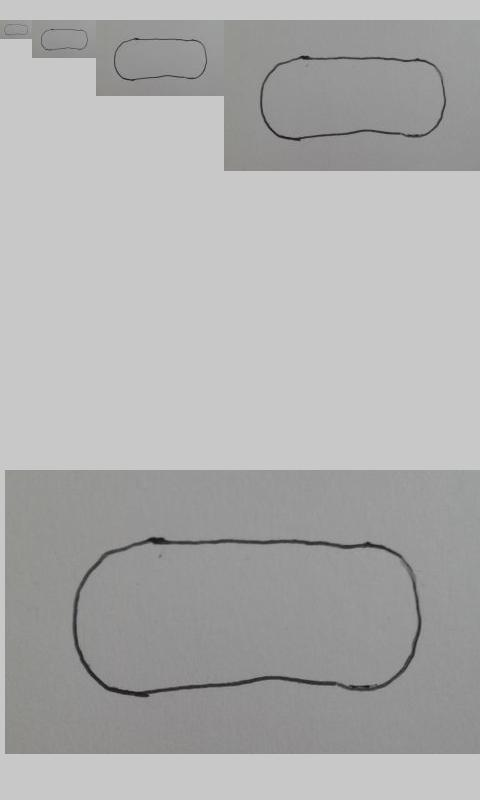chip: (72, 538, 422, 699), (259, 54, 448, 140), (114, 38, 208, 81), (40, 29, 89, 51), (4, 23, 29, 36)
